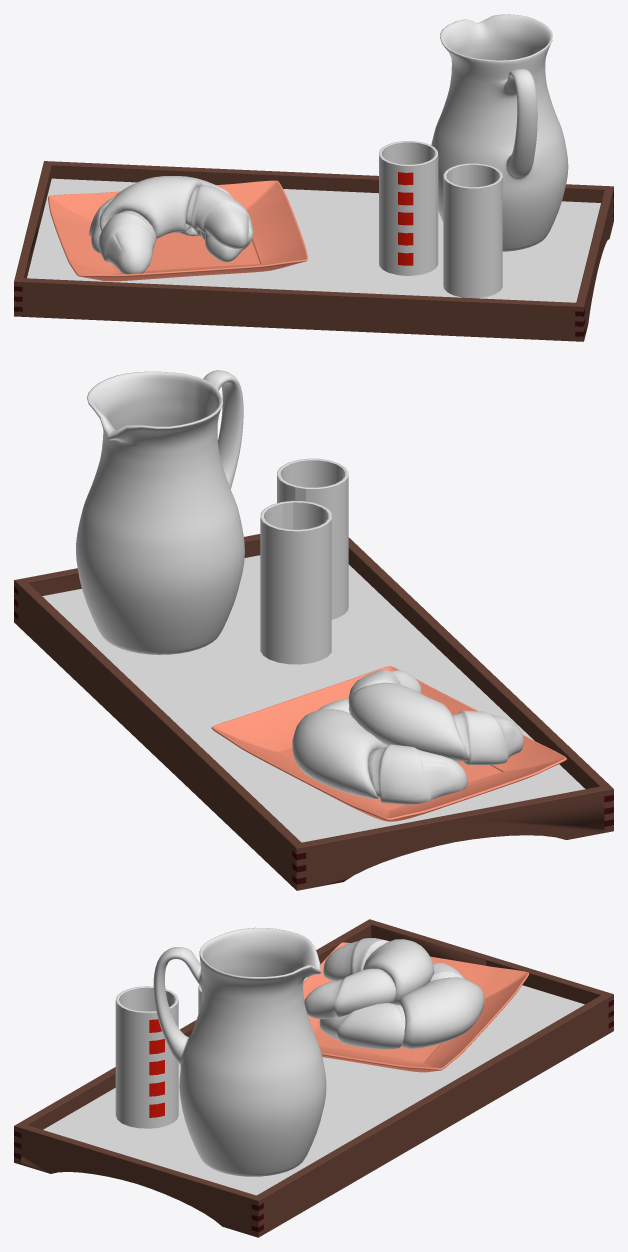
The model's file is breakfast_set.fbx.
3 views of the same model, one above another, from view 1: azimuth 30°, elevation 25°; view 2: azimuth 150°, elevation 25°; view 3: azimuth 270°, elevation 25° (orthographic). The views are drawn at different scales.
Visible parts, largest first — view 1: breakfast_set; view 2: breakfast_set; view 3: breakfast_set.
Boxes of the visible parts, x1,y1,x2,y2 form: breakfast_set: (14,14,613,341); breakfast_set: (14,370,613,890); breakfast_set: (14,919,613,1237).
Size of the model in its own units: 2742 by 1021 by 2467.
